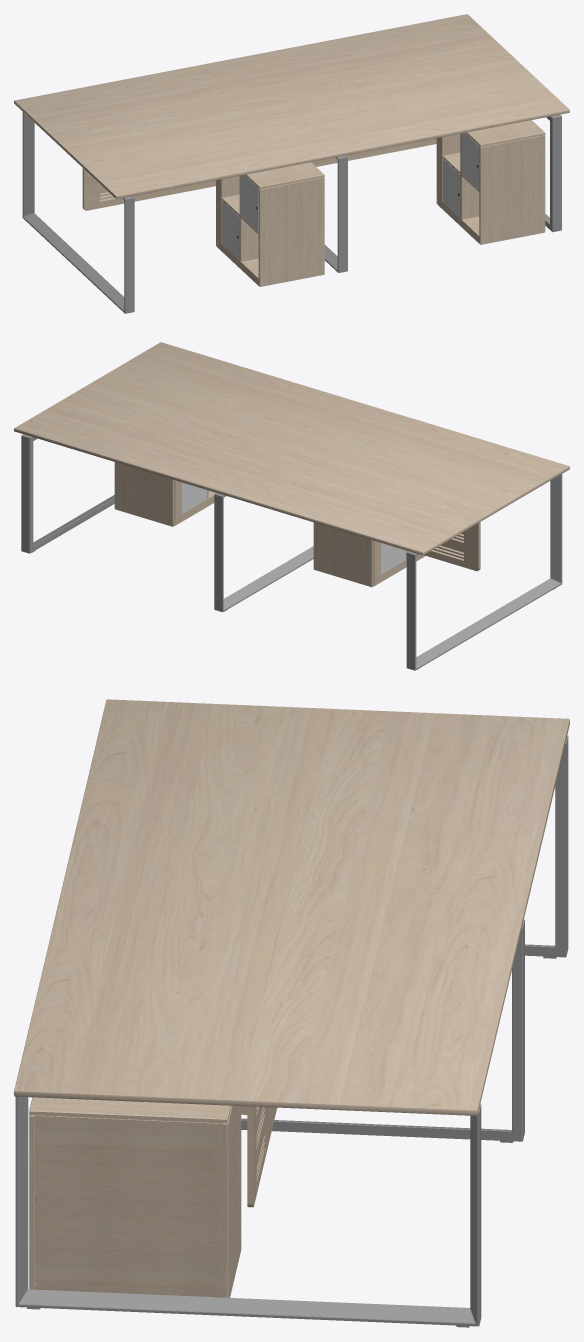
The picture shows the model from 3 angles, top to bottom: view 1: azimuth 30°, elevation 25°; view 2: azimuth 150°, elevation 25°; view 3: azimuth 270°, elevation 25°; orthographic projection. The views are drawn at different scales.
Visible parts, largest first — view 1: Layer:zen - Block016, Box2131640010, Box2131640011, Rectangle2059391833, Box2131640013, Box2131640012, Box2131639721, Box2131640022, Box2131640021, Box2131640023, Box2131640020, Box2131639720; view 2: Layer:zen - Block016, Rectangle2059391833, Box2131640010, Box2131640011, Box2131639721, Box2131640023, Box2131640022; view 3: Layer:zen - Block016, Box2131640019, Rectangle2059391833, Box2131640013, Box2131640010, Box2131639720.
Part boxes in pixels (<box>): Layer:zen - Block016: <box>14,14,569,199</box>; Box2131640010: <box>436,133,545,244</box>; Box2131640011: <box>216,175,324,286</box>; Rectangle2059391833: <box>22,112,561,313</box>; Box2131640013: <box>438,120,545,243</box>; Box2131640012: <box>217,162,324,285</box>; Box2131639721: <box>82,168,215,210</box>; Box2131640022: <box>442,158,460,217</box>; Box2131640021: <box>461,133,479,189</box>; Box2131640023: <box>222,200,239,260</box>; Box2131640020: <box>241,175,258,231</box>; Box2131639720: <box>311,138,436,166</box>; Layer:zen - Block016: <box>14,342,569,555</box>; Rectangle2059391833: <box>21,434,562,670</box>; Box2131640010: <box>114,462,208,526</box>; Box2131640011: <box>313,522,407,587</box>; Box2131639721: <box>424,522,480,571</box>; Box2131640023: <box>381,543,405,574</box>; Box2131640022: <box>182,482,206,513</box>; Layer:zen - Block016: <box>14,699,569,1115</box>; Box2131640019: <box>35,1115,221,1292</box>; Rectangle2059391833: <box>15,735,568,1327</box>; Box2131640013: <box>29,1097,231,1297</box>; Box2131640010: <box>29,1105,241,1297</box>; Box2131639720: <box>247,1106,276,1207</box>.
Size of the model in its own units: 2924 by 750 by 1670.
Materials: 4 (1 with a texture image).
